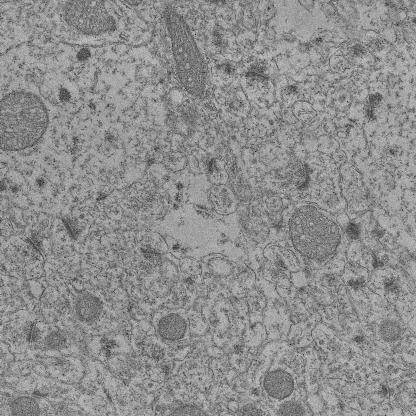mitochondria: (160, 5, 209, 98), (286, 202, 344, 262), (0, 90, 51, 158), (262, 364, 296, 400), (155, 310, 189, 343), (75, 290, 106, 324), (379, 315, 404, 345)
